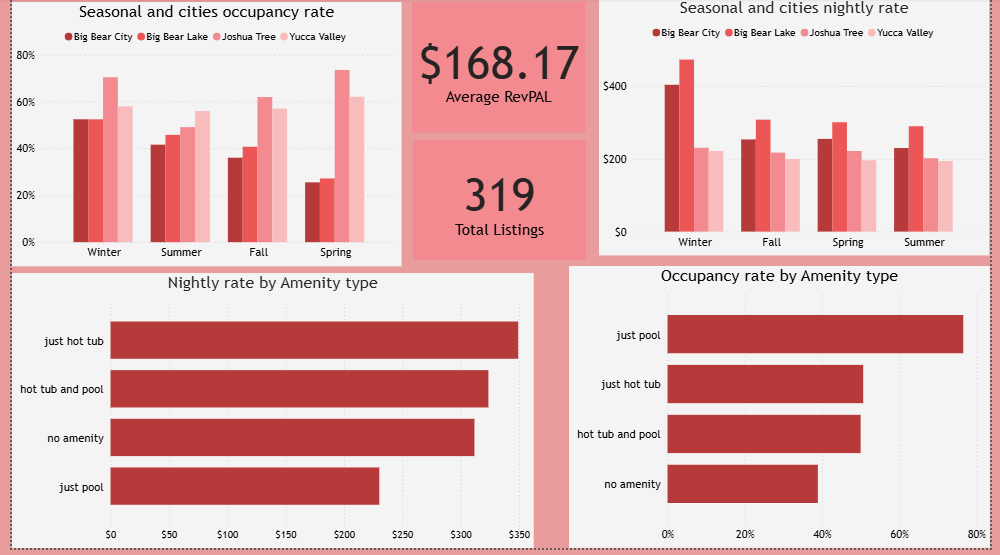

This screenshot's page, from the dashboard's own definition file:
{"tool":"powerbi","page":{"name":"product listings","canvas":[1280,720],"ordinal":1},"visuals":[{"type":"card","fields":{"Values":["Count(Cleaned_airbnb.Unified_Id)"]},"box":[524.9,185.9,226.5,157.1],"z":0},{"type":"card","fields":{"Values":["Avg(Cleaned_airbnb.RevPAL)"]},"box":[524.3,5.7,227.1,171.4],"z":1000},{"type":"clusteredBarChart","title":"Occupancy rate by Amenity type","fields":{"Y":["Avg(Cleaned_airbnb.Occupancy %)"],"Category":["Cleaned_airbnb.Amenity type"]},"box":[728.6,351.4,551.4,368.6],"z":2000},{"type":"clusteredBarChart","title":" Nightly rate by Amenity type","fields":{"Category":["Cleaned_airbnb.Amenity type"],"Y":["Avg(Cleaned_airbnb.nightly rate)"]},"box":[0,360,682.9,360],"z":3000},{"type":"clusteredColumnChart","title":"Seasonal and cities nightly rate","fields":{"Category":["Cleaned_airbnb.Season "],"Y":["Avg(Cleaned_airbnb.nightly rate)"],"Series":["Cleaned_airbnb.city"]},"box":[768.6,0,511.4,337.1],"z":4000},{"type":"clusteredColumnChart","title":"Seasonal and cities occupancy rate","fields":{"Category":["Cleaned_airbnb.Season "],"Y":["Avg(Cleaned_airbnb.Occupancy %)"],"Series":["Cleaned_airbnb.city"]},"box":[0,5.7,510,345.7],"z":5000}]}

Visuals, with their boxes in screenshot pixels (x1, y1, x2, y2), scaled from the page's 1280x720 canvas onto the 1000x555 screenshot:
card - Count(Cleaned_airbnb.Unified_Id): {"x1": 410, "y1": 143, "x2": 587, "y2": 264}
card - Avg(Cleaned_airbnb.RevPAL): {"x1": 410, "y1": 4, "x2": 587, "y2": 137}
"Occupancy rate by Amenity type" clusteredBarChart: {"x1": 569, "y1": 271, "x2": 999, "y2": 554}
" Nightly rate by Amenity type" clusteredBarChart: {"x1": 0, "y1": 278, "x2": 534, "y2": 554}
"Seasonal and cities nightly rate" clusteredColumnChart: {"x1": 600, "y1": 0, "x2": 999, "y2": 260}
"Seasonal and cities occupancy rate" clusteredColumnChart: {"x1": 0, "y1": 4, "x2": 398, "y2": 271}
